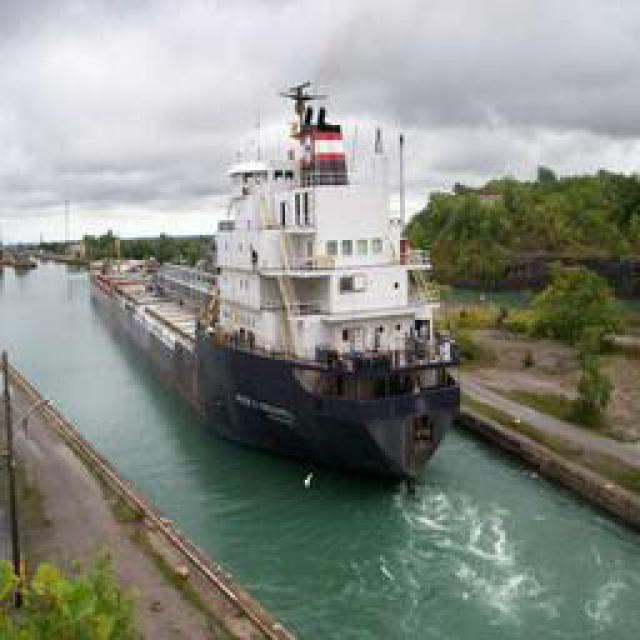Ship: (112, 82, 470, 480)
